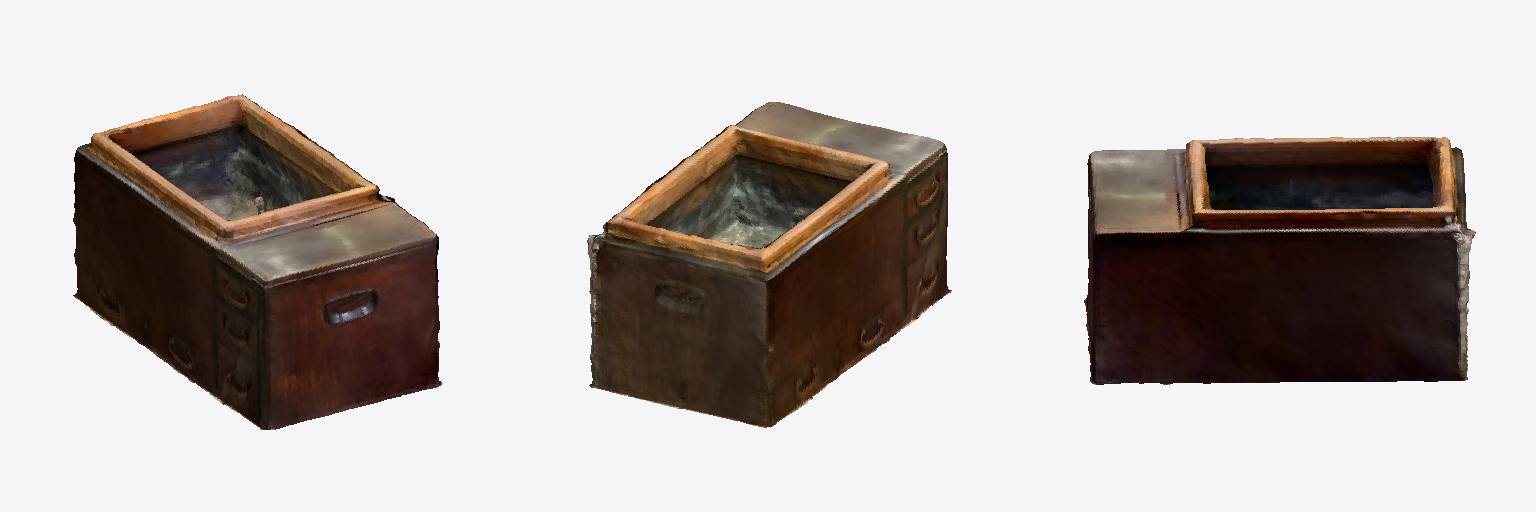
3 views of the same model, side by side, from view 1: azimuth 30°, elevation 25°; view 2: azimuth 150°, elevation 25°; view 3: azimuth 270°, elevation 25° (orthographic).
Size of the model in its own units: 0.3921 by 0.3256 by 0.6965.
1 materials, 1 textured.